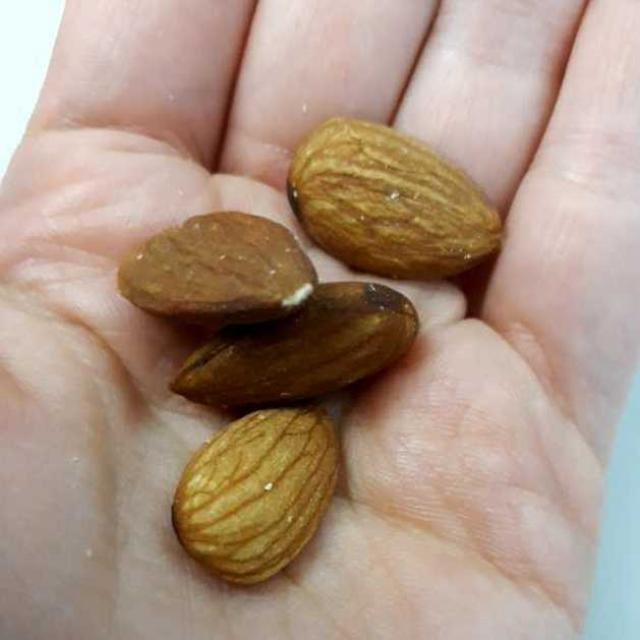mixed-nuts: (124, 77, 537, 573), (122, 146, 481, 544)
